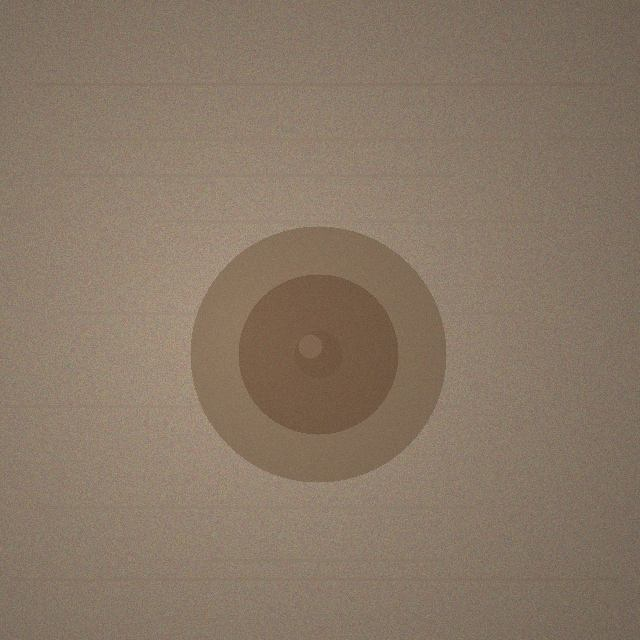good: (190, 226, 446, 482)
